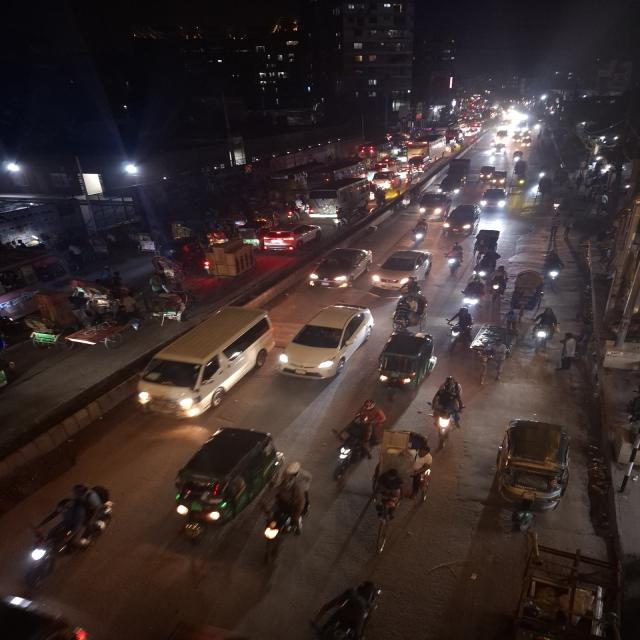bus: (307, 175, 369, 220), (407, 141, 446, 162), (357, 142, 387, 164)
car: (134, 305, 276, 418), (284, 297, 370, 388), (372, 241, 428, 295), (308, 246, 372, 293), (269, 219, 318, 254), (442, 200, 481, 243), (479, 188, 512, 215), (437, 174, 465, 195), (371, 173, 399, 189), (406, 156, 429, 173), (492, 143, 509, 156)
cng: (164, 426, 276, 534), (494, 420, 574, 532), (367, 331, 441, 400), (236, 224, 262, 245), (478, 164, 498, 186), (491, 170, 508, 188)
motorcycle: (10, 480, 117, 589), (334, 396, 381, 484), (428, 369, 466, 452), (528, 302, 558, 358), (450, 296, 472, 357), (468, 246, 501, 286), (459, 270, 485, 316), (442, 240, 466, 279), (542, 248, 564, 289), (488, 267, 508, 302), (405, 218, 427, 248), (372, 188, 388, 206), (402, 172, 415, 187)
pedestrian: (559, 328, 582, 379), (545, 211, 563, 241), (565, 212, 577, 243)
pickup_van: (203, 240, 263, 290), (418, 193, 450, 220)
rickshaw: (371, 428, 439, 552), (70, 306, 140, 359), (472, 316, 518, 388), (18, 316, 69, 354), (146, 284, 193, 324), (150, 251, 182, 290), (538, 175, 555, 197)
